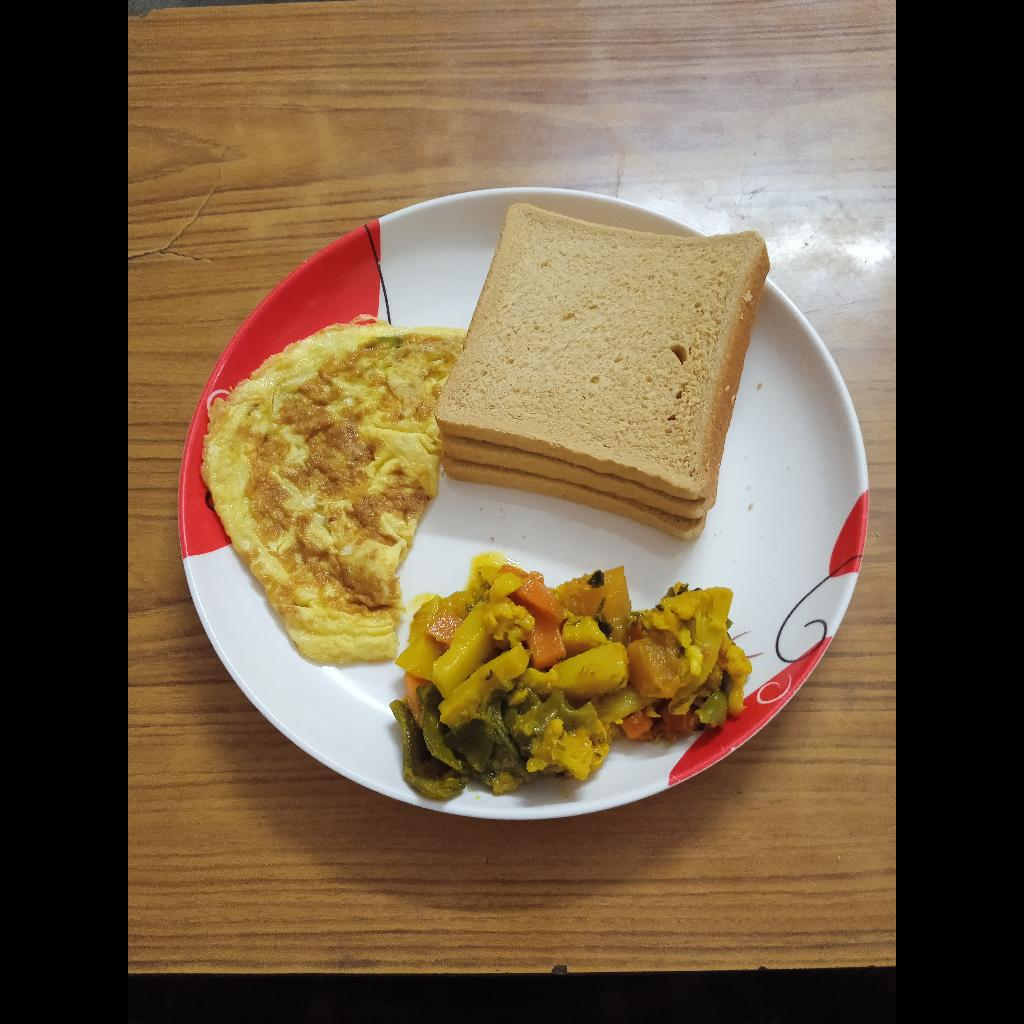bread: (433, 203, 770, 543)
egg-poached: (202, 315, 465, 664)
vegetable: (389, 549, 752, 801)
